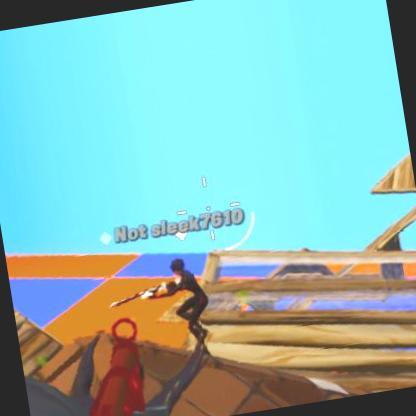person: (154, 245, 235, 365), (145, 254, 214, 352)
